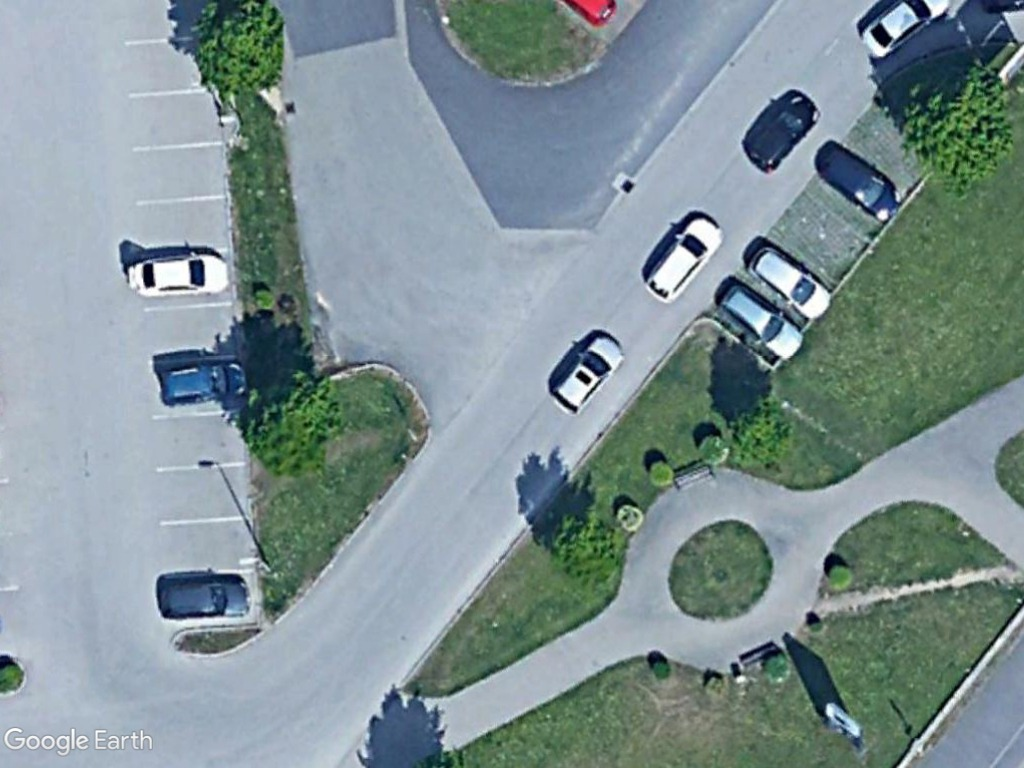car: (812, 137, 902, 224), (713, 281, 803, 363), (543, 332, 629, 416), (736, 90, 823, 171), (743, 244, 834, 321), (642, 215, 725, 299), (122, 253, 232, 301), (154, 575, 257, 622), (156, 360, 248, 408)
